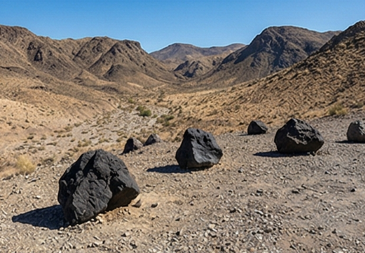rocks: (58, 150, 139, 223), (175, 128, 222, 168), (274, 118, 323, 153), (123, 134, 160, 152), (348, 121, 364, 142), (248, 121, 267, 134)
